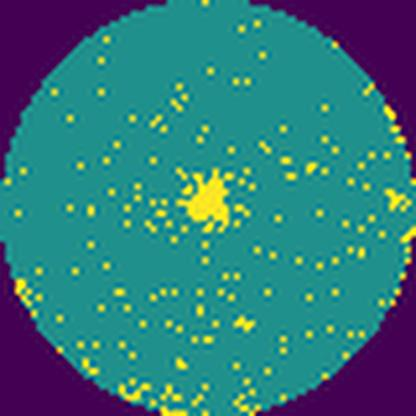Center: (186, 172, 232, 225)
